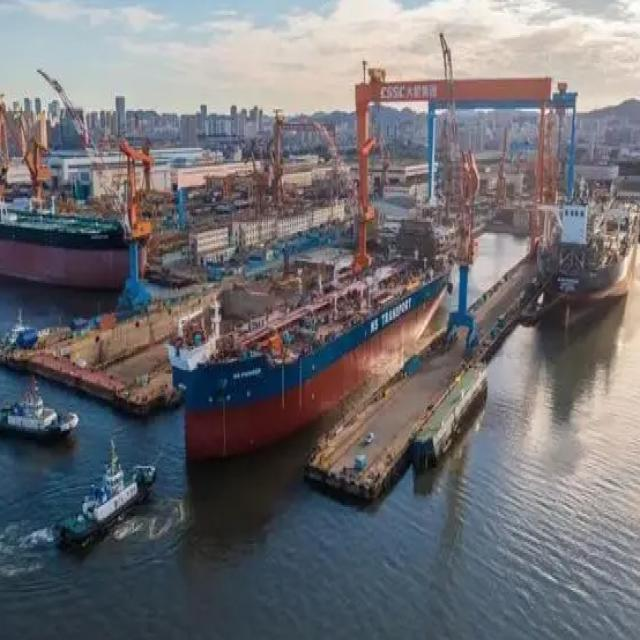cargoship: (156, 237, 441, 466), (538, 168, 636, 312)
